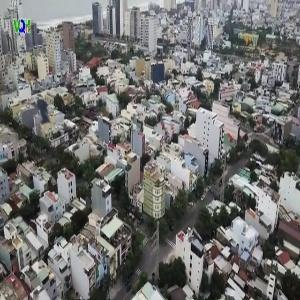drone: (13, 76, 88, 151)
